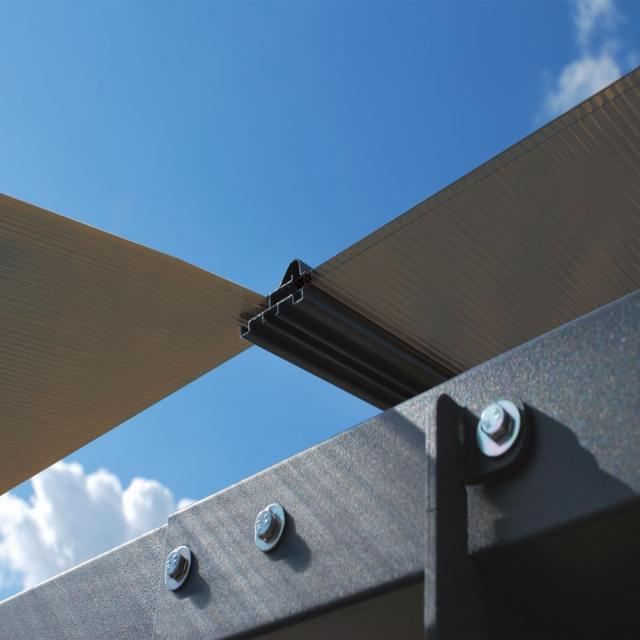bolt head: (476, 398, 510, 442), (253, 508, 279, 542), (163, 550, 186, 582)
